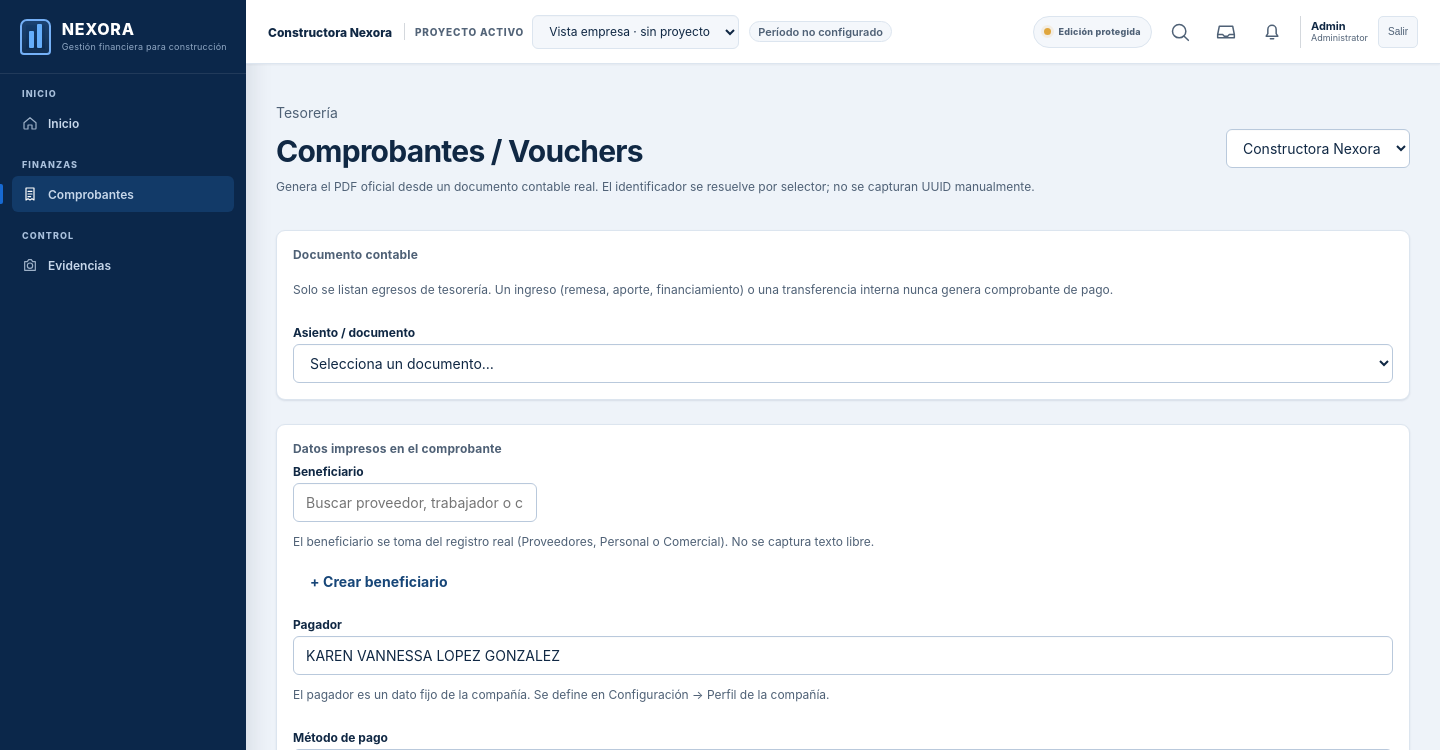
Test: VouchersPage › blocks bank payment methods with an explicit reason until evidence is attached
The image size is (1440, 750).
Select "PAY-2026-0001 — Pago a proveedor — Contabilizado" in the dropdown labelled "Asiento / documento" at (843, 364), box [293,344,1393,383]
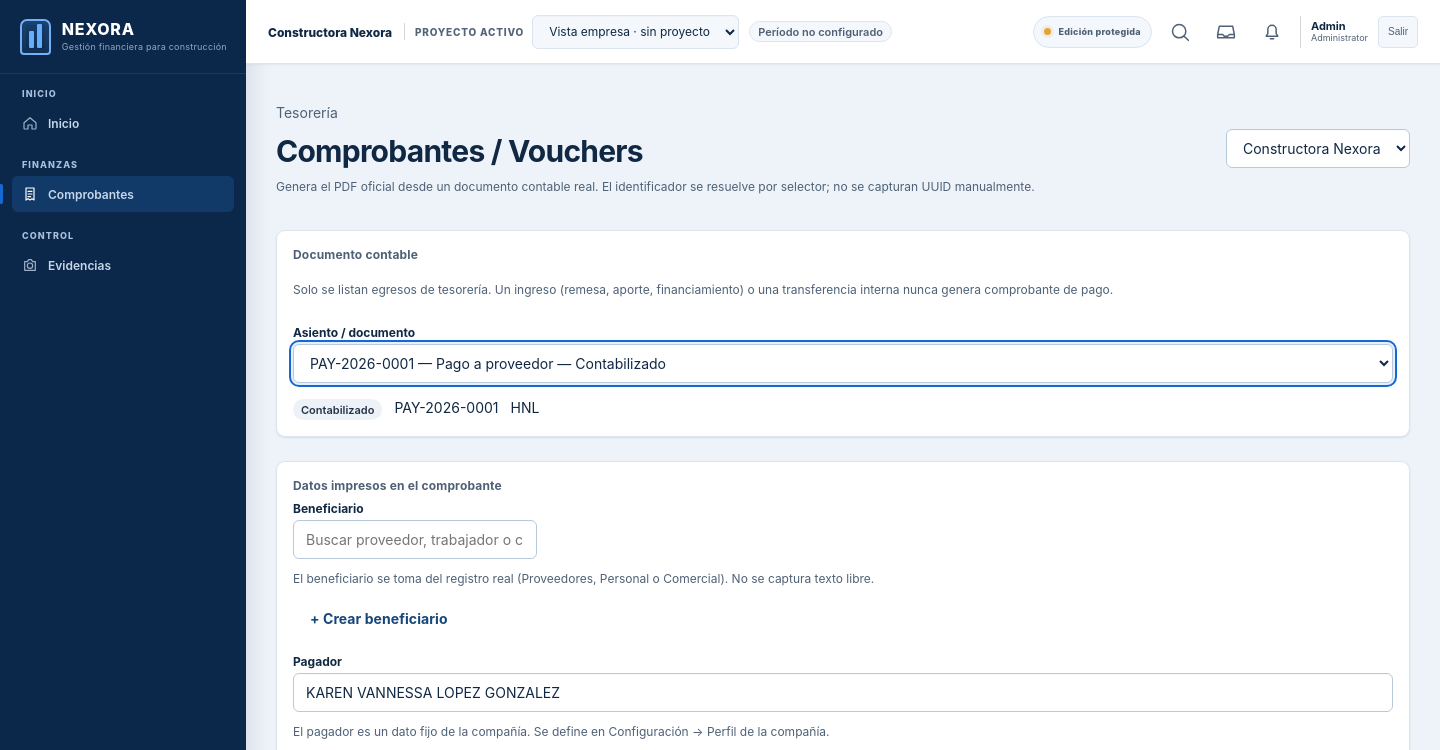
Type "Ferre" into the dropdown labelled "Beneficiario" at (415, 540), box [293,520,537,559]
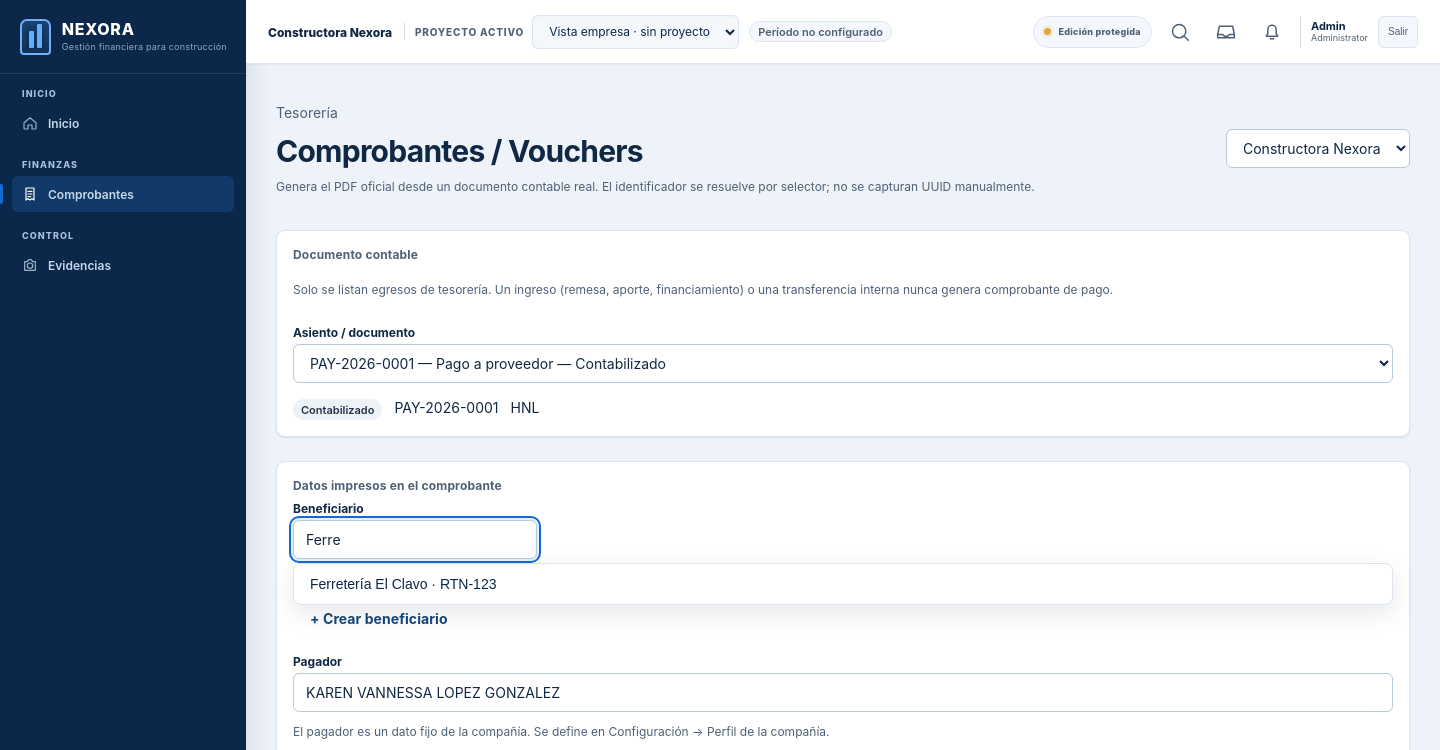
Click the option "Ferretería El Clavo · RTN-123" at (403, 584), box [298,568,1388,600]
(page scrolled)
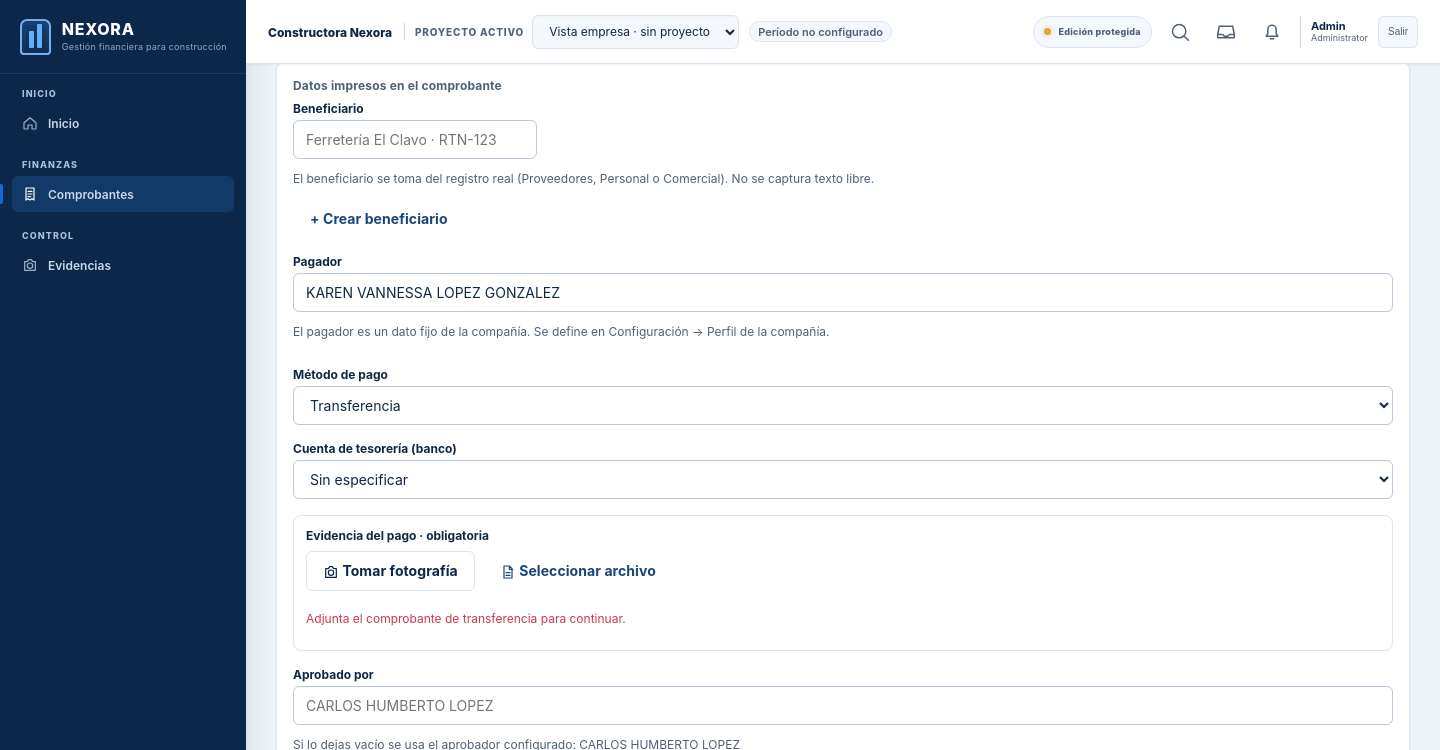
Expected: the text "Adjunta el comprobante de transferencia para continuar." is shown, [306,611,626,626]
Select "Efectivo" in the dropdown labelled "Método de pago" at (843, 406), box [293,386,1393,425]
(page scrolled)
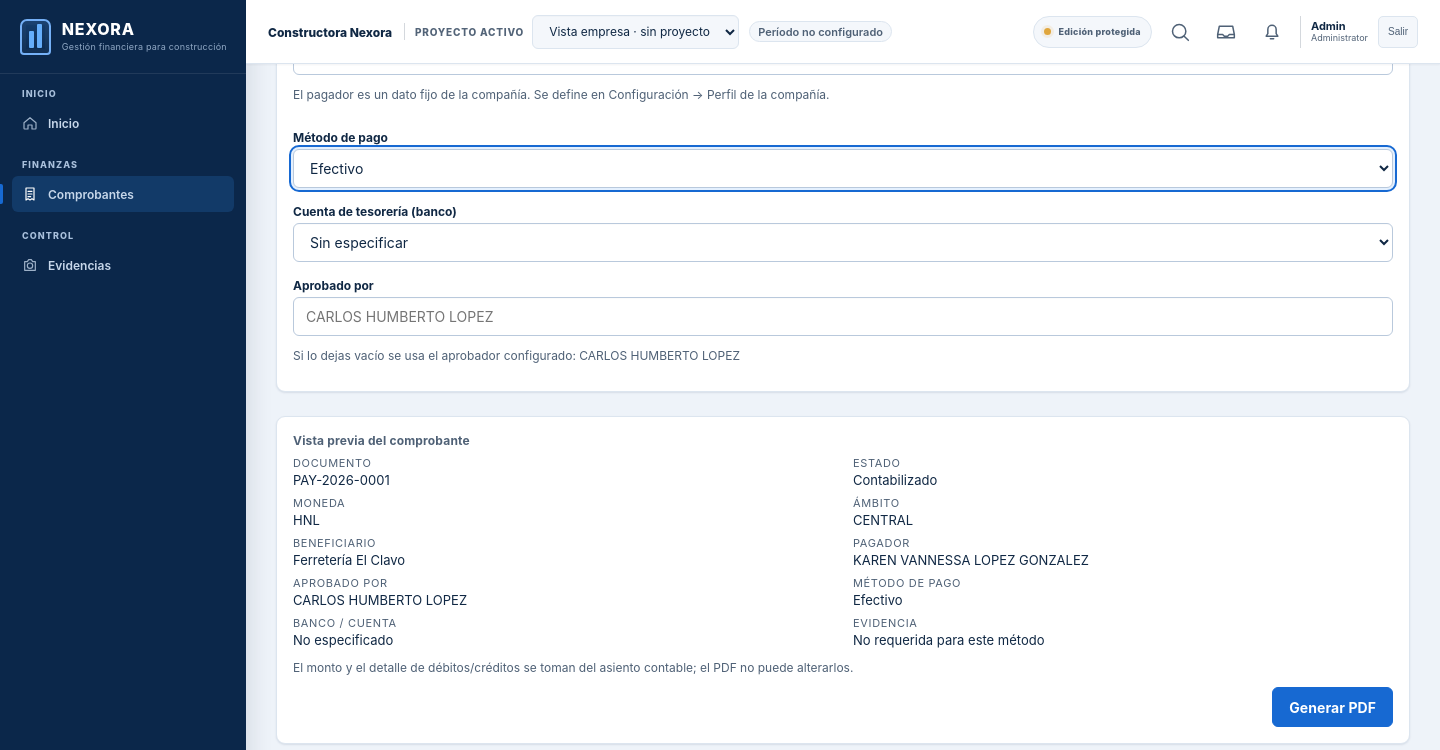
Expected: the button "Generar PDF" is enabled, [1272,687,1393,727]
